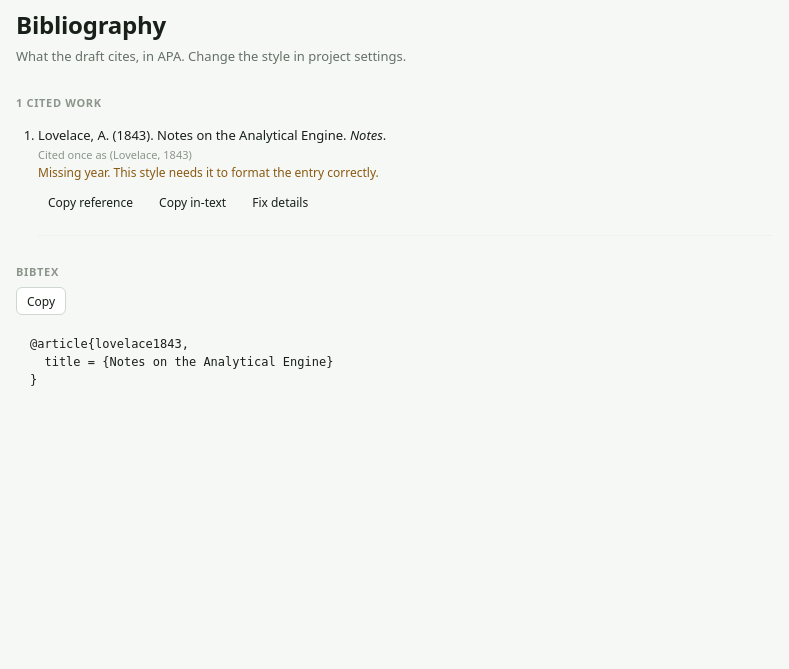
Test: fixing an entry here › reads the Paper and fills the form from it
Click the button with aria-label "Fix the details for Notes on the Analytical Engine". click: [280, 203]
box: [242, 189, 318, 217]
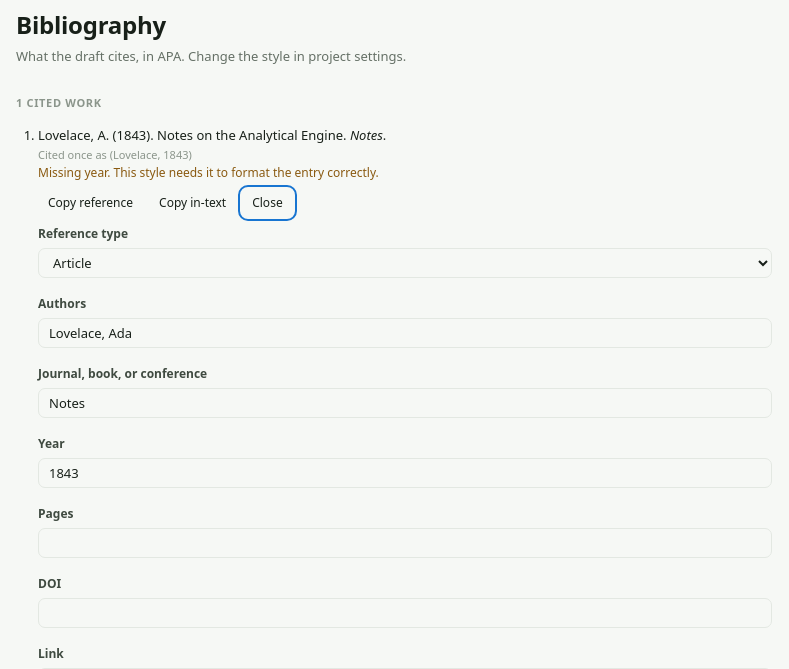
expect the field labelled "Authors" holds "Lovelace, Ada": met, box [38, 318, 772, 348]
expect the number field labelled "Year" holds "1843": met, box [38, 458, 772, 488]
